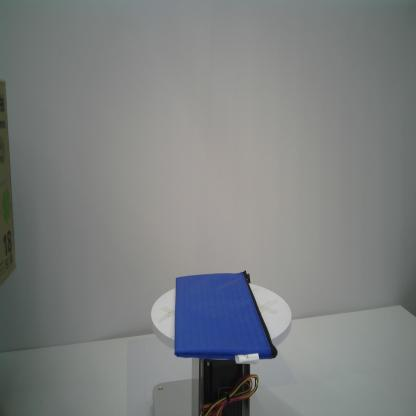Stationery: (174, 269, 278, 363)
